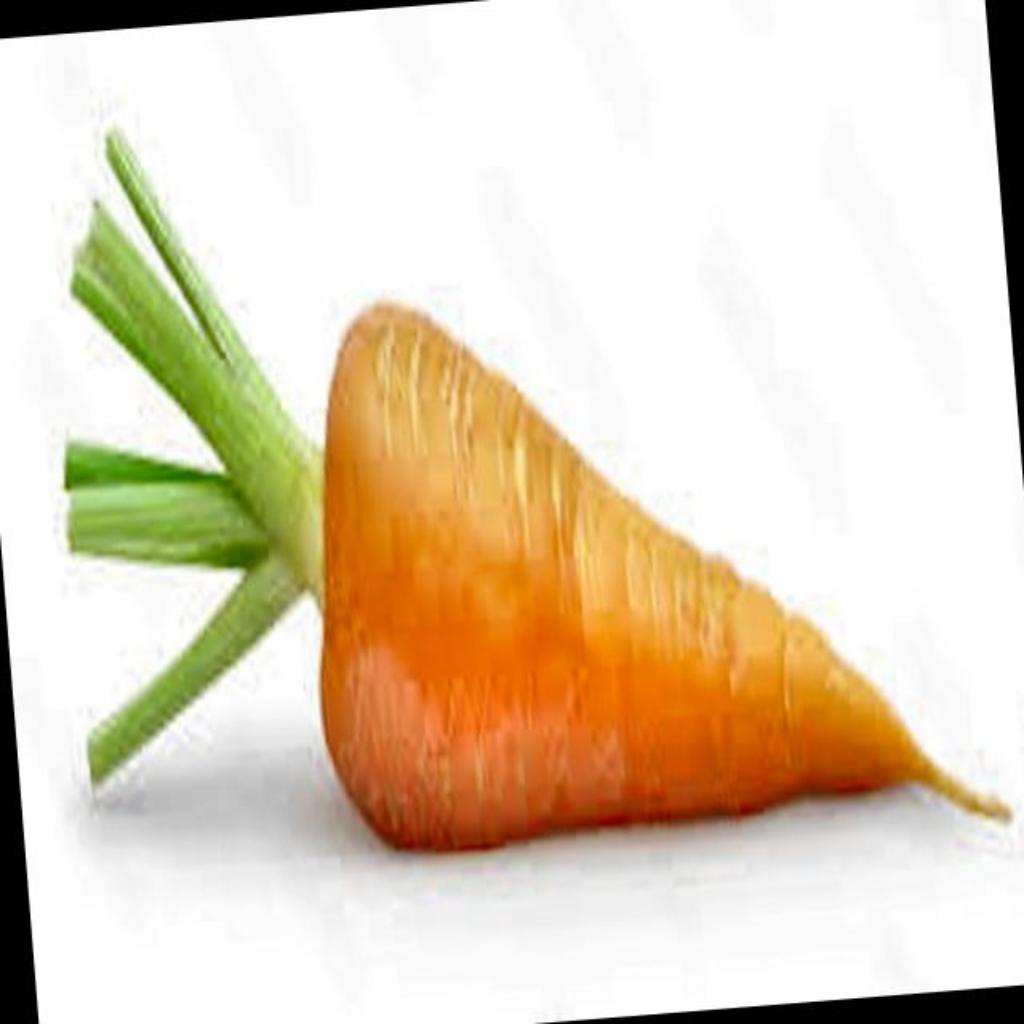carrot: (66, 134, 1010, 849)
